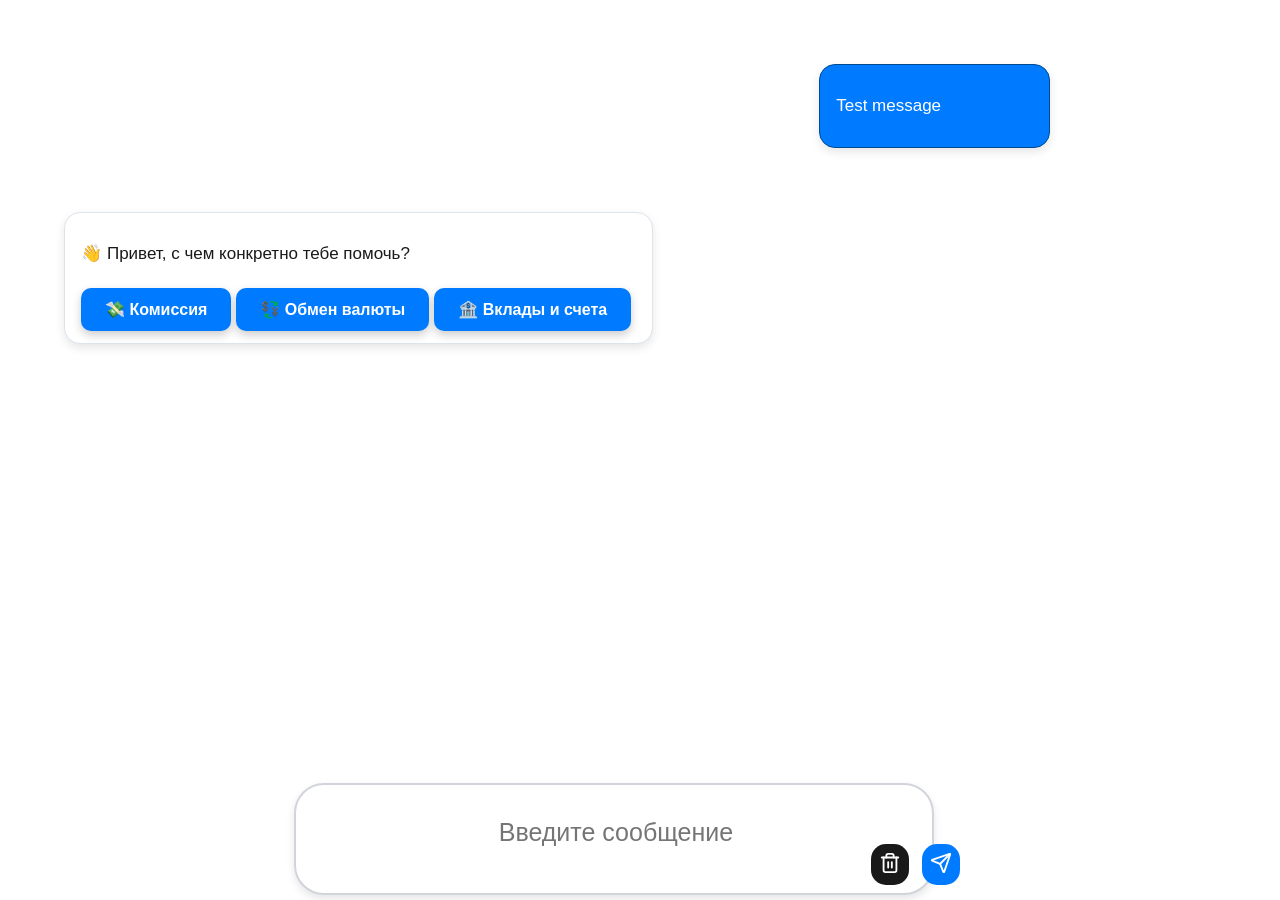
Scenario: Dialog Component › handles deposits button click
Note: Нажимаем кнопку "Вклады и счета"
Step 1. Click the button "🏦 Вклады и счета" → (533, 309), box [434,288,631,331]
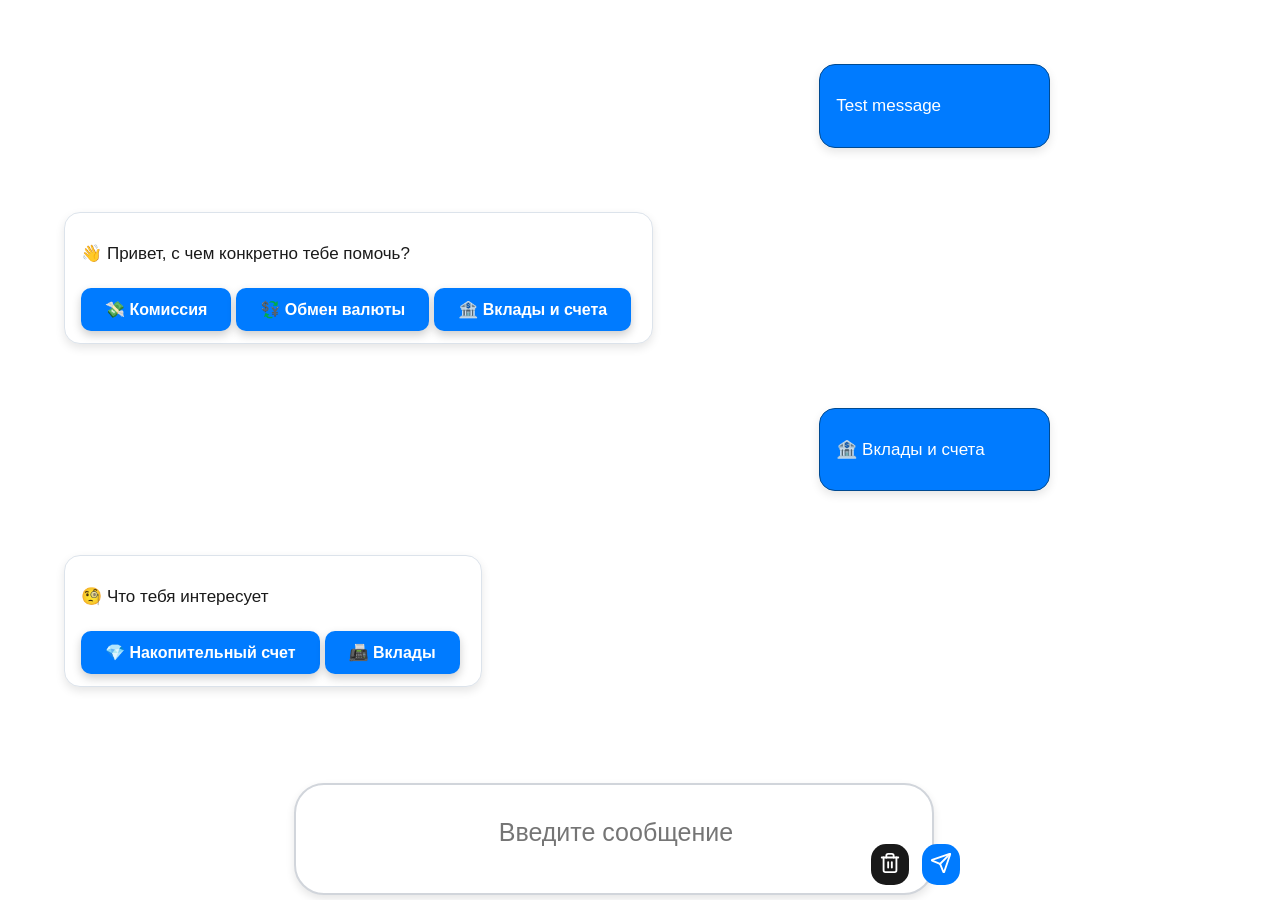
Result: the text "🧐 Что тебя интересует" is shown at [81,587,268,606]
Result: the button "💎 Накопительный счет" is shown at [81,631,320,674]
Result: the button "📠 Вклады" is shown at [325,631,460,674]
